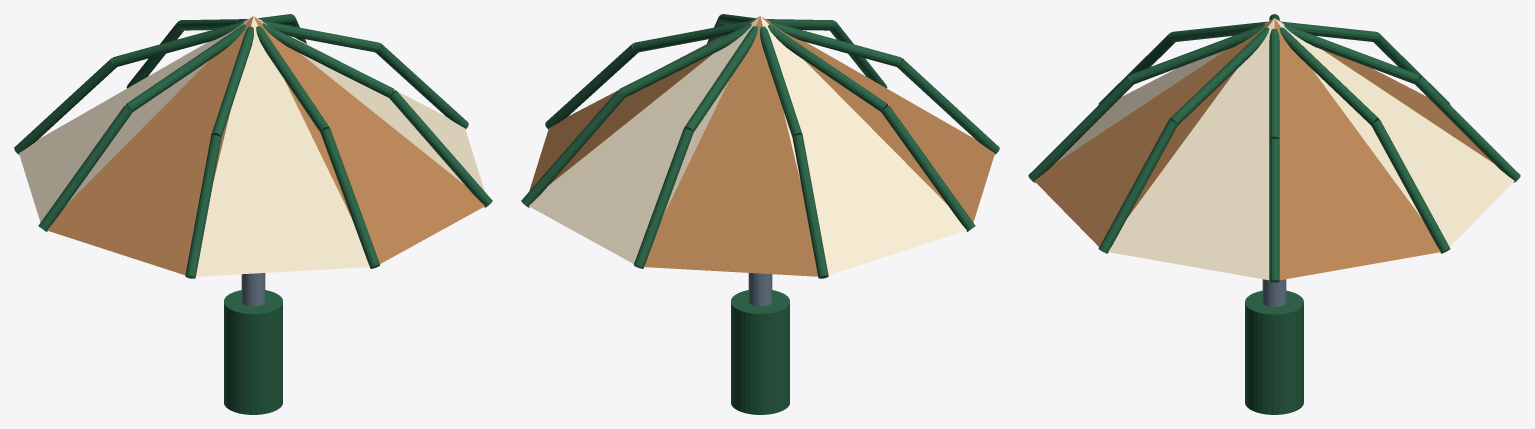
Rendered from foldumbrella.glb.
3 views of the same model, side by side, from view 1: azimuth 30°, elevation 25°; view 2: azimuth 150°, elevation 25°; view 3: azimuth 270°, elevation 25° (orthographic).
Parts seen in each view (by area): view 1: panel2, panel3, panel1, panel4, handle, panel0, rib21, rib41, rib31, rib11, rib10, rib40 (+9 smaller); view 2: panel5, panel4, panel6, panel3, handle, panel7, rib61, rib41, rib51, rib71, rib70, rib40 (+9 smaller); view 3: panel0, panel7, panel1, panel6, handle, panel2, panel5, rib11, rib71, rib01, rib20, rib60 (+10 smaller).
Part boxes in pixels (bbox=[...]): panel2: bbox=[196, 16, 369, 276]; panel3: bbox=[47, 16, 253, 274]; panel1: bbox=[254, 17, 484, 263]; panel4: bbox=[19, 16, 252, 222]; handle: bbox=[224, 290, 282, 414]; panel0: bbox=[254, 16, 484, 190]; rib21: bbox=[320, 128, 379, 268]; rib41: bbox=[38, 105, 132, 231]; rib31: bbox=[185, 135, 221, 278]; rib11: bbox=[389, 90, 492, 207]; rib10: bbox=[262, 23, 394, 97]; rib40: bbox=[126, 24, 246, 111]; panel5: bbox=[644, 16, 817, 276]; panel4: bbox=[760, 16, 966, 274]; panel6: bbox=[529, 17, 759, 263]; panel3: bbox=[761, 16, 994, 222]; handle: bbox=[731, 290, 789, 414]; panel7: bbox=[529, 16, 759, 190]; rib61: bbox=[634, 128, 693, 268]; rib41: bbox=[881, 105, 975, 231]; rib51: bbox=[792, 135, 828, 278]; rib71: bbox=[521, 90, 624, 207]; rib70: bbox=[619, 23, 751, 97]; rib40: bbox=[767, 24, 887, 111]; panel0: bbox=[1108, 18, 1274, 280]; panel7: bbox=[1274, 19, 1440, 280]; panel1: bbox=[1034, 18, 1273, 246]; panel6: bbox=[1275, 18, 1514, 246]; handle: bbox=[1245, 290, 1303, 414]; panel2: bbox=[1055, 18, 1273, 163]; panel5: bbox=[1275, 18, 1493, 163]; rib11: bbox=[1098, 120, 1177, 253]; rib71: bbox=[1371, 120, 1450, 253]; rib01: bbox=[1269, 138, 1279, 282]; rib20: bbox=[1129, 24, 1264, 84]; rib60: bbox=[1284, 24, 1419, 84].
Bounding box in the file's own units: 1.67 × 1.44 × 1.67.
